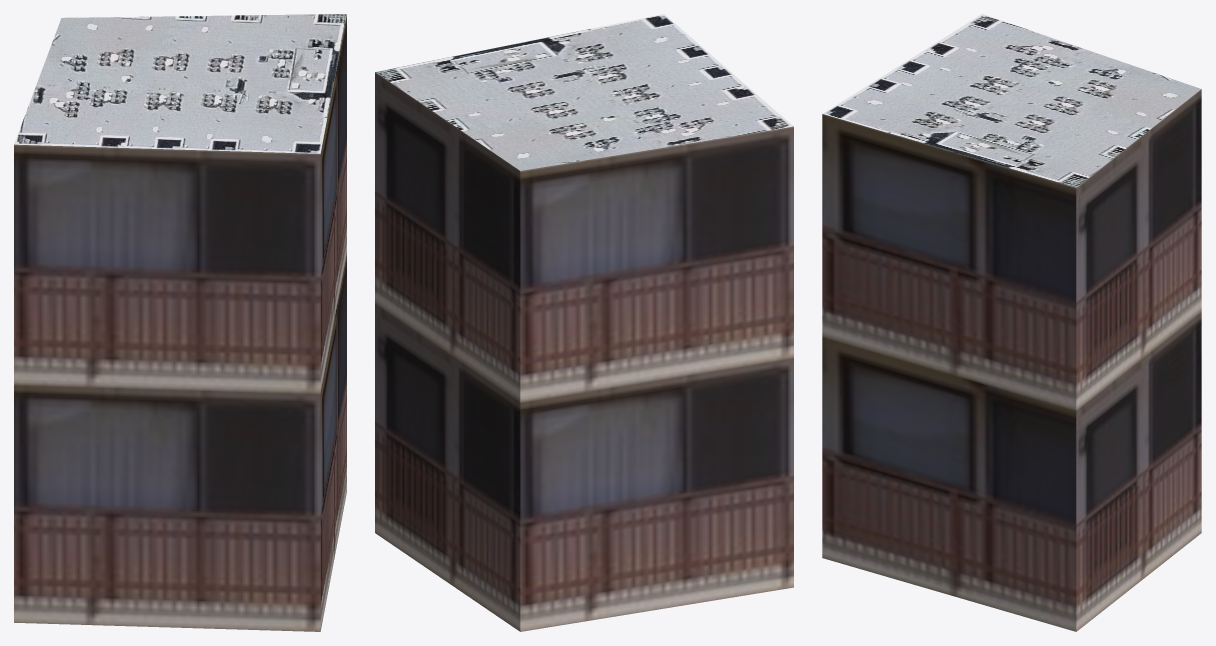
Rendered from ResTex__3488.fbx.
3 renders of one model, left to right at view 1: azimuth 30°, elevation 25°; view 2: azimuth 150°, elevation 25°; view 3: azimuth 270°, elevation 25°, orthographic. The views are drawn at different scales.
Parts seen in each view (by area): view 1: CityEngineMaterial_6_m, CityEngineMaterial_4_m; view 2: CityEngineMaterial_6_m, CityEngineMaterial_4_m; view 3: CityEngineMaterial_6_m, CityEngineMaterial_4_m.
Boxes of the visible parts, left/top/right/bottom form: CityEngineMaterial_6_m: left=14, top=15, right=346, bottom=631; CityEngineMaterial_4_m: left=14, top=14, right=346, bottom=153; CityEngineMaterial_6_m: left=375, top=72, right=793, bottom=631; CityEngineMaterial_4_m: left=375, top=14, right=793, bottom=170; CityEngineMaterial_6_m: left=822, top=89, right=1201, bottom=631; CityEngineMaterial_4_m: left=823, top=14, right=1200, bottom=187.
Bounding box in the file's own units: 5.04 × 6 × 4.64.
Materials: 2 (2 with a texture image).
